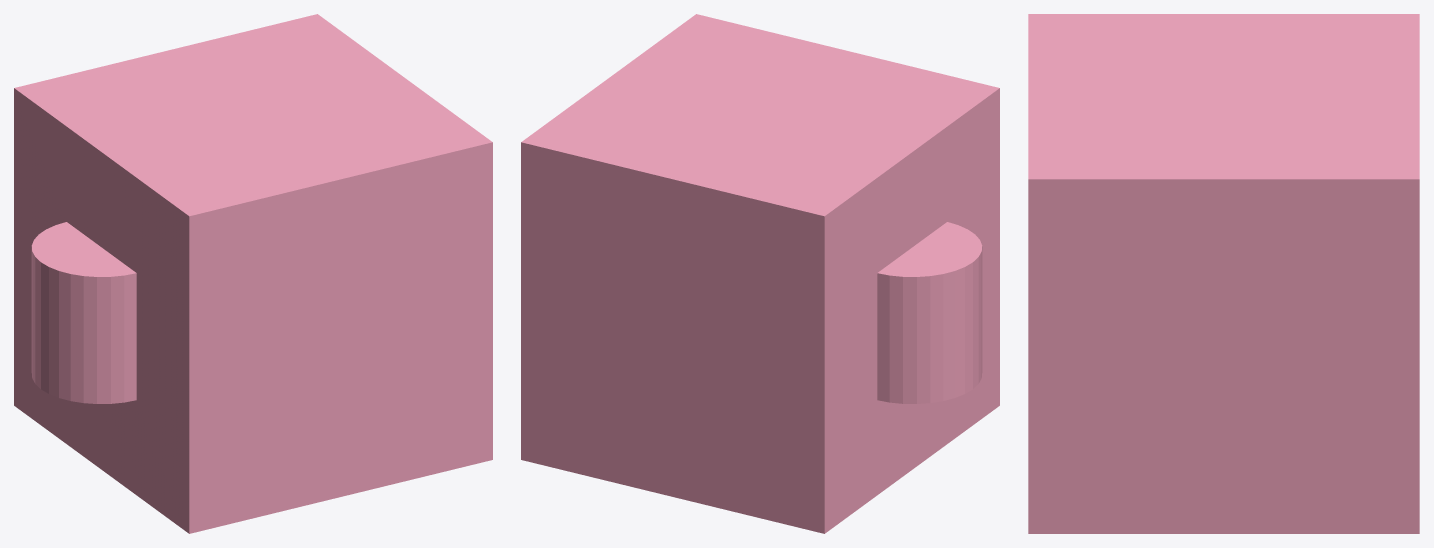
File: drill.obj
The picture shows the model from 3 angles, left to right: view 1: azimuth 30°, elevation 25°; view 2: azimuth 150°, elevation 25°; view 3: azimuth 270°, elevation 25°; orthographic projection. The views are drawn at different scales.
Parts seen in each view (by area): view 1: Cube_Cube.001, Cylinder; view 2: Cube_Cube.001, Cylinder; view 3: Cube_Cube.001.
Part boxes in pixels (x1,y1,x2,y2): Cube_Cube.001: [14, 14, 492, 533]; Cylinder: [31, 222, 136, 403]; Cube_Cube.001: [521, 14, 999, 533]; Cylinder: [877, 222, 982, 403]; Cube_Cube.001: [1028, 14, 1419, 533].
Size of the model in its own units: 6 by 5 by 5.
